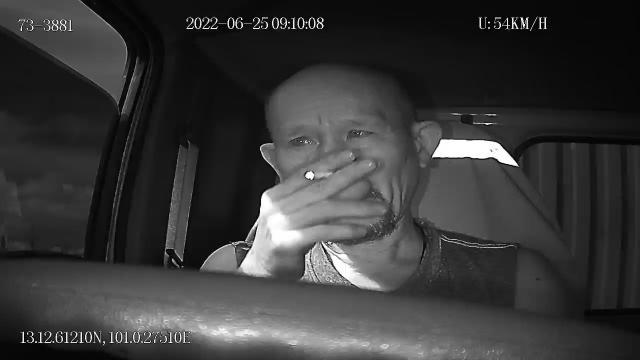SafeDriving: (338, 117, 382, 146), (283, 127, 322, 153)
Smoking: (303, 170, 335, 180)
